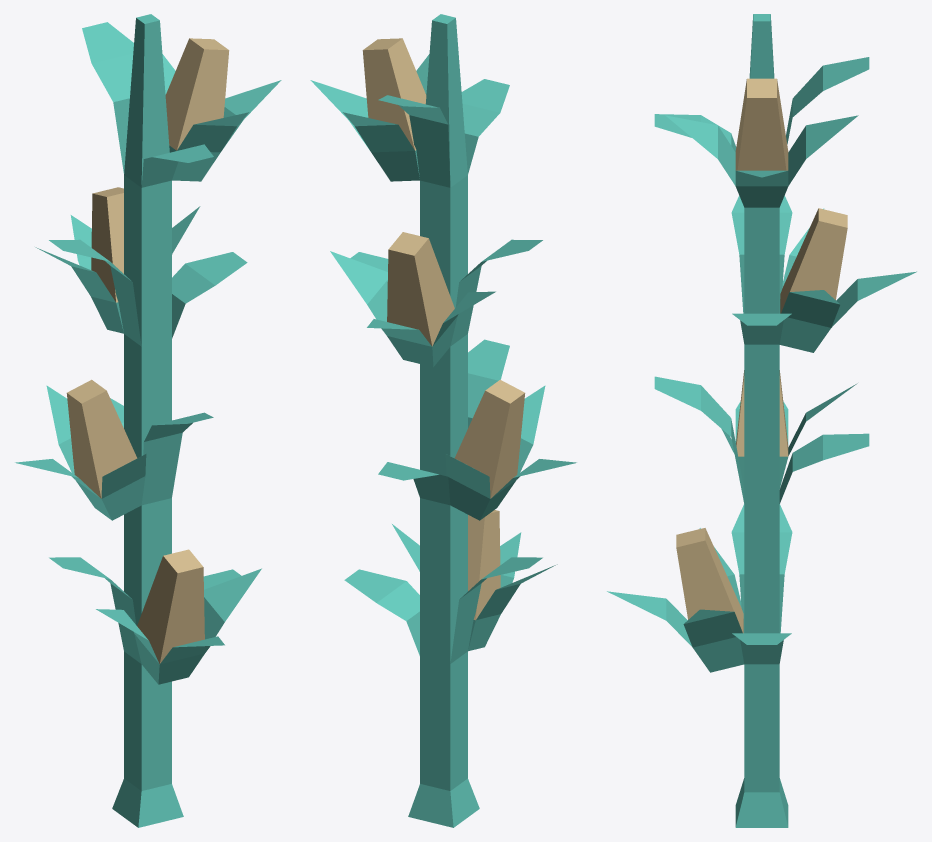
File: crops_cornStageD.glb
3 views of the same model, side by side, from view 1: azimuth 30°, elevation 25°; view 2: azimuth 150°, elevation 25°; view 3: azimuth 270°, elevation 25° (orthographic).
Visible parts, largest first — view 1: crops_cornStageD; view 2: crops_cornStageD; view 3: crops_cornStageD.
Part boxes in pixels (<box>): crops_cornStageD: <box>15,14,281,827</box>; crops_cornStageD: <box>310,14,576,827</box>; crops_cornStageD: <box>607,14,916,827</box>.
Bounding box in the file's own units: 0.4416 × 1.25 × 0.4416.
